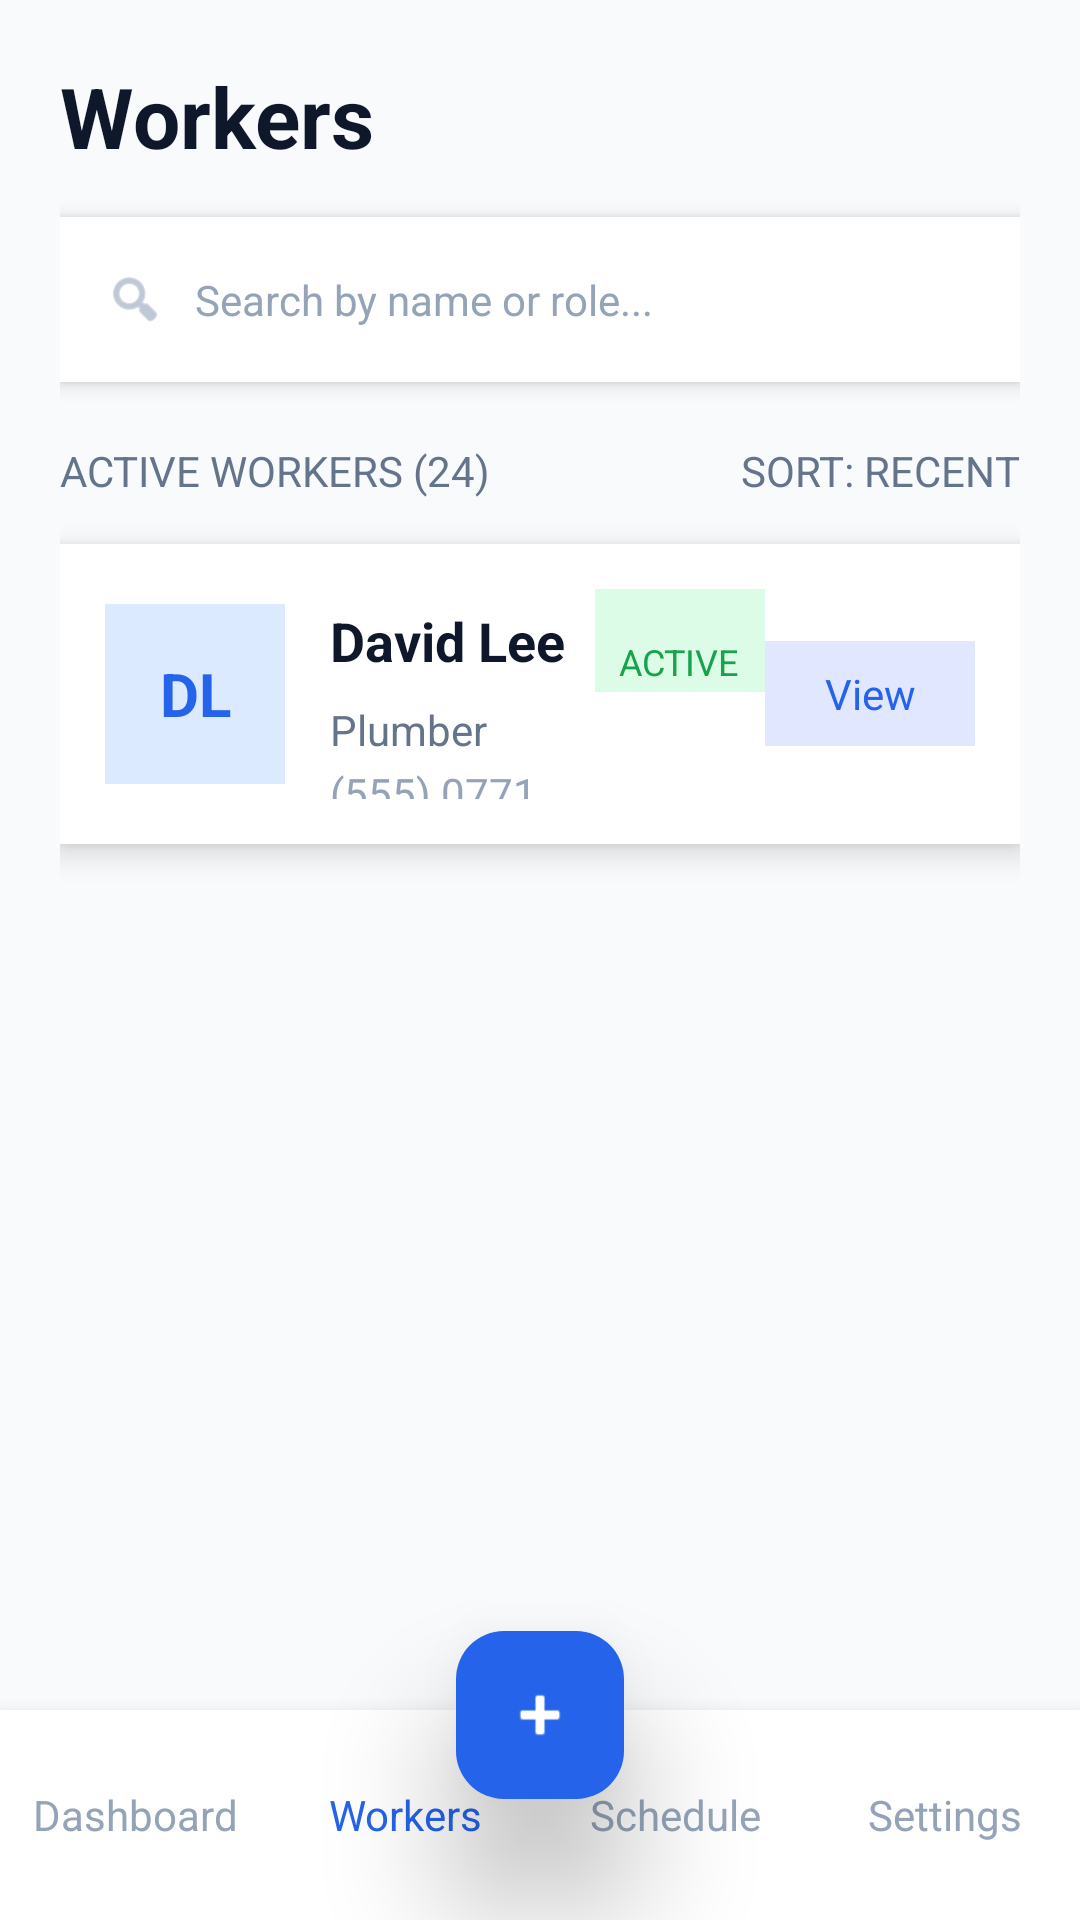

Named icons in this screenshot (1080px×1920px) and their centers, (x=x, y=y):
add: (x=540, y=1715)
